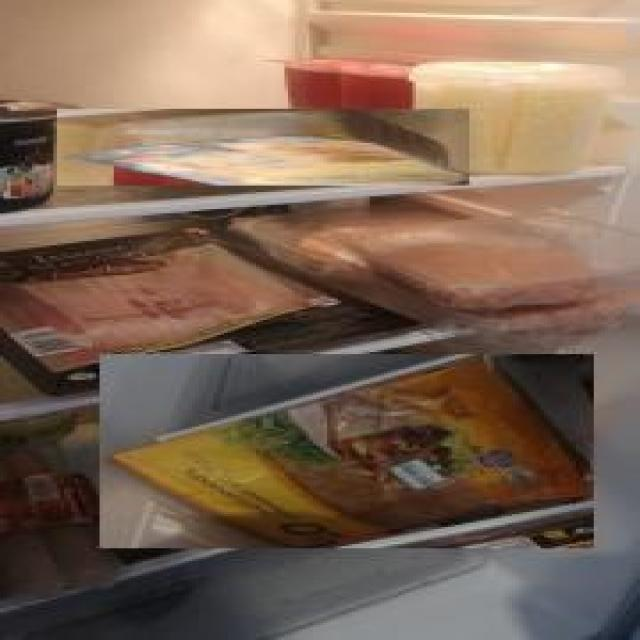cheese: (57, 108, 470, 186)
tortillas: (100, 354, 594, 548)
